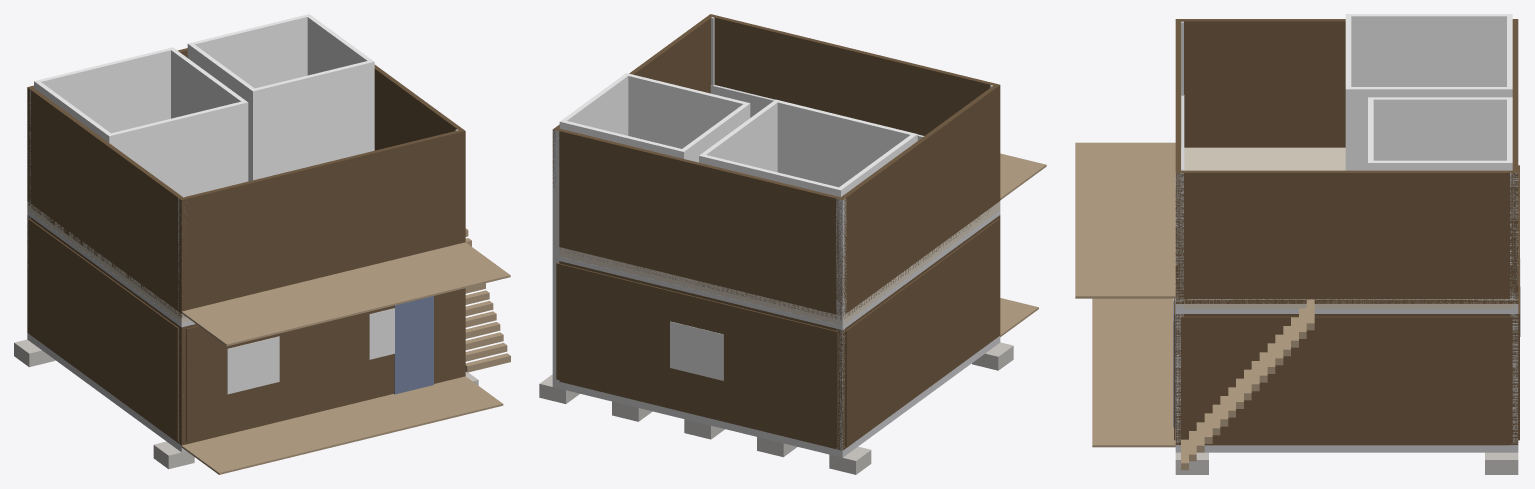
File: Duplex-20-Base-WengeWood-LOD2.glb
3 views of the same model, side by side, from view 1: azimuth 30°, elevation 25°; view 2: azimuth 150°, elevation 25°; view 3: azimuth 270°, elevation 25° (orthographic). The views are drawn at different scales.
Parts seen in each view (by area): view 1: ExteriorShellUpper, ExteriorPanelsStandard, StudyUpper, BedroomUpper, BalconyUpper, BalconyGround, WindowsStandard, EntryDoor, StaircaseExternal, ExteriorShell, FoundationBlocks, FloorUpper (+2 smaller); view 2: ExteriorShellUpper, ExteriorPanelsStandard, BedroomUpper, StudyUpper, FloorUpper, VerticalStructure, FoundationBlocks, BaseFrame, ExteriorShell, WindowsStandard, TopFrame, BalconyUpper (+2 smaller); view 3: ExteriorShellUpper, ExteriorPanelsStandard, BalconyUpper, BedroomUpper, BalconyGround, StudyUpper, FloorUpper, StaircaseExternal, ExteriorShell, VerticalStructure, BaseFrame, TopFrame (+1 smaller).
Part boxes in pixels (bbox=[...]): ExteriorShellUpper: bbox=[27, 48, 465, 317]; ExteriorPanelsStandard: bbox=[28, 218, 461, 442]; StudyUpper: bbox=[187, 14, 374, 181]; BedroomUpper: bbox=[34, 47, 248, 196]; BalconyUpper: bbox=[181, 242, 510, 346]; BalconyGround: bbox=[181, 376, 503, 474]; WindowsStandard: bbox=[227, 308, 394, 394]; EntryDoor: bbox=[394, 296, 433, 394]; StaircaseExternal: bbox=[465, 228, 510, 372]; ExteriorShell: bbox=[27, 215, 465, 445]; FoundationBlocks: bbox=[14, 339, 478, 469]; FloorUpper: bbox=[27, 201, 190, 322]; ExteriorShellUpper: bbox=[552, 14, 1000, 319]; ExteriorPanelsStandard: bbox=[556, 219, 999, 447]; BedroomUpper: bbox=[699, 99, 917, 197]; StudyUpper: bbox=[559, 73, 750, 162]; FloorUpper: bbox=[559, 201, 1000, 325]; VerticalStructure: bbox=[552, 17, 998, 450]; FoundationBlocks: bbox=[539, 342, 1013, 474]; BaseFrame: bbox=[552, 336, 1000, 457]; ExteriorShell: bbox=[559, 215, 1000, 450]; WindowsStandard: bbox=[670, 321, 723, 380]; TopFrame: bbox=[559, 210, 1000, 329]; BalconyUpper: bbox=[1000, 153, 1046, 199]; ExteriorShellUpper: bbox=[1175, 19, 1518, 303]; ExteriorPanelsStandard: bbox=[1174, 165, 1519, 443]; BalconyUpper: bbox=[1075, 142, 1175, 298]; BedroomUpper: bbox=[1345, 14, 1512, 170]; BalconyGround: bbox=[1092, 298, 1175, 447]; StudyUpper: bbox=[1368, 97, 1512, 170]; FloorUpper: bbox=[1175, 147, 1518, 308]; StaircaseExternal: bbox=[1181, 299, 1314, 470]; ExteriorShell: bbox=[1175, 314, 1518, 445]; VerticalStructure: bbox=[1175, 21, 1518, 445]; BaseFrame: bbox=[1175, 445, 1518, 452]; TopFrame: bbox=[1175, 309, 1518, 313].
Bounding box in the file's own units: 7.94 × 6 × 8.
